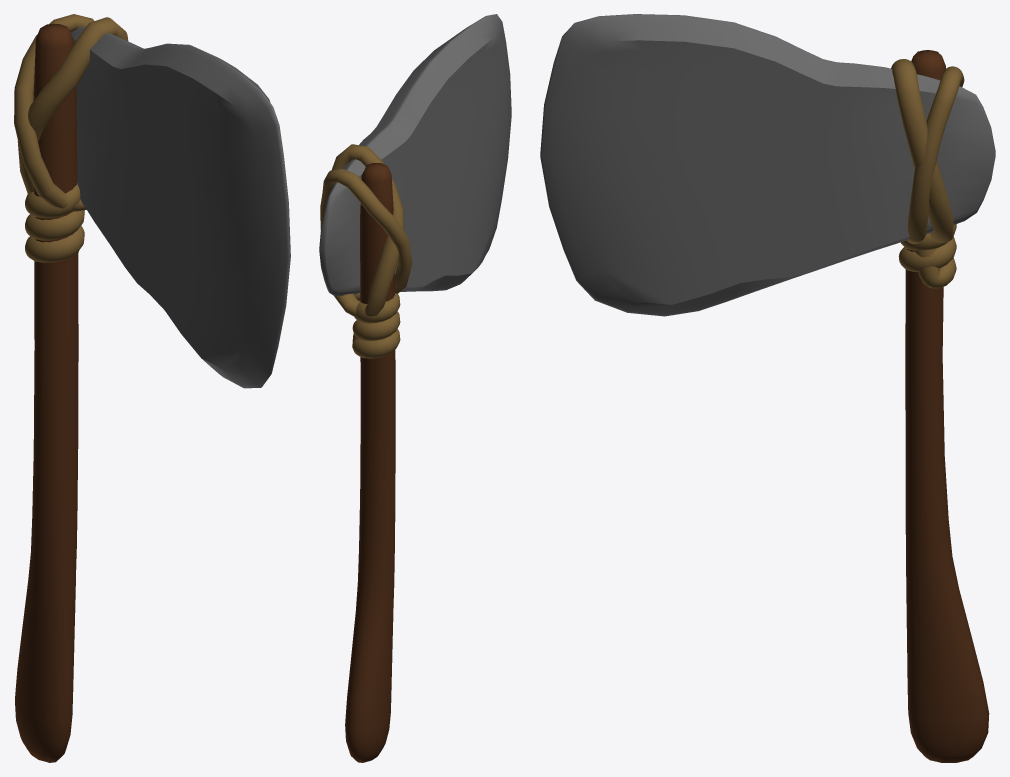
The model's file is Ishiono.fbx.
3 renders of one model, left to right at view 1: azimuth 30°, elevation 25°; view 2: azimuth 150°, elevation 25°; view 3: azimuth 270°, elevation 25°, orthographic. The views are drawn at different scales.
Visible parts, largest first — view 1: Ishiono; view 2: Ishiono; view 3: Ishiono.
Part boxes in pixels (x1,y1,x2,y2): Ishiono: (14, 14, 290, 762); Ishiono: (319, 14, 511, 762); Ishiono: (540, 14, 995, 762).
Bounding box in the file's own units: 0.1583 × 1.09 × 0.5915.
